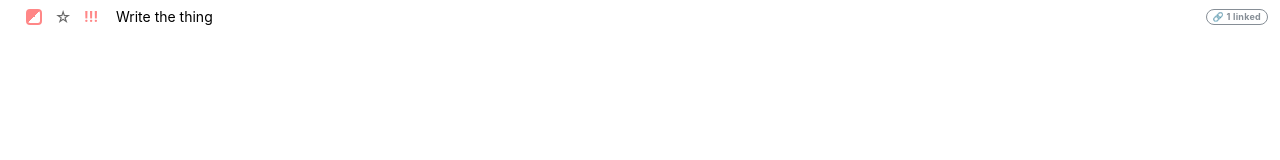
it: TaskRow modifier clicks › has an Open task tooltip naming the modifiers that apply
Hover over the button "Write the thing" at (164,16), box [116,7,1196,27]
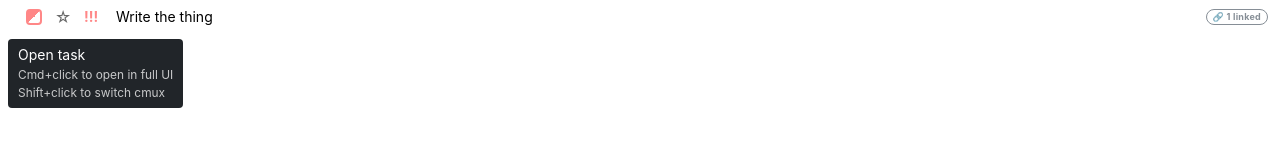
Now the text "Open task" is shown, box [18,46,85,63]
Now the text "Cmd+click to open in full UI" is shown, box [18,66,173,84]
Now the text "Shift+click to switch cmux" is shown, box [18,84,173,103]
